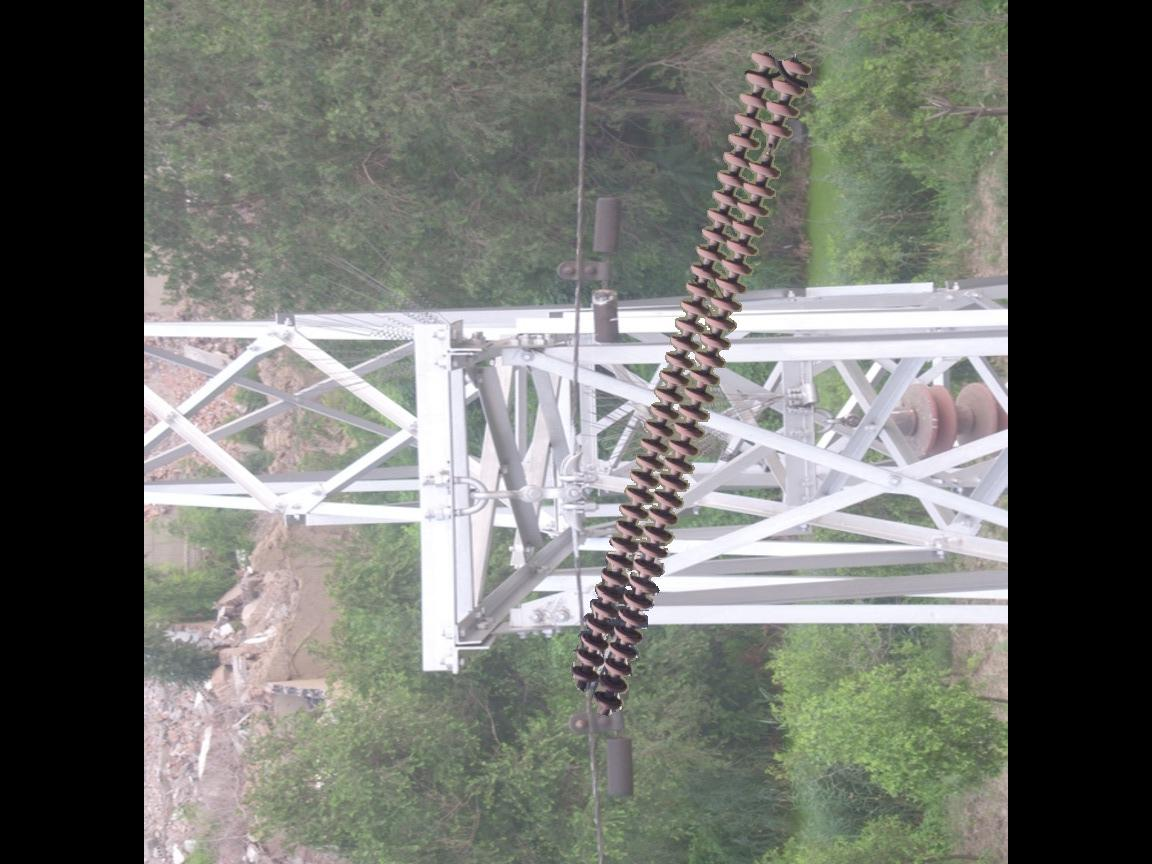insulator: (567, 43, 819, 714), (887, 374, 1011, 465)
insulator_stringdrop: (747, 119, 795, 182)
